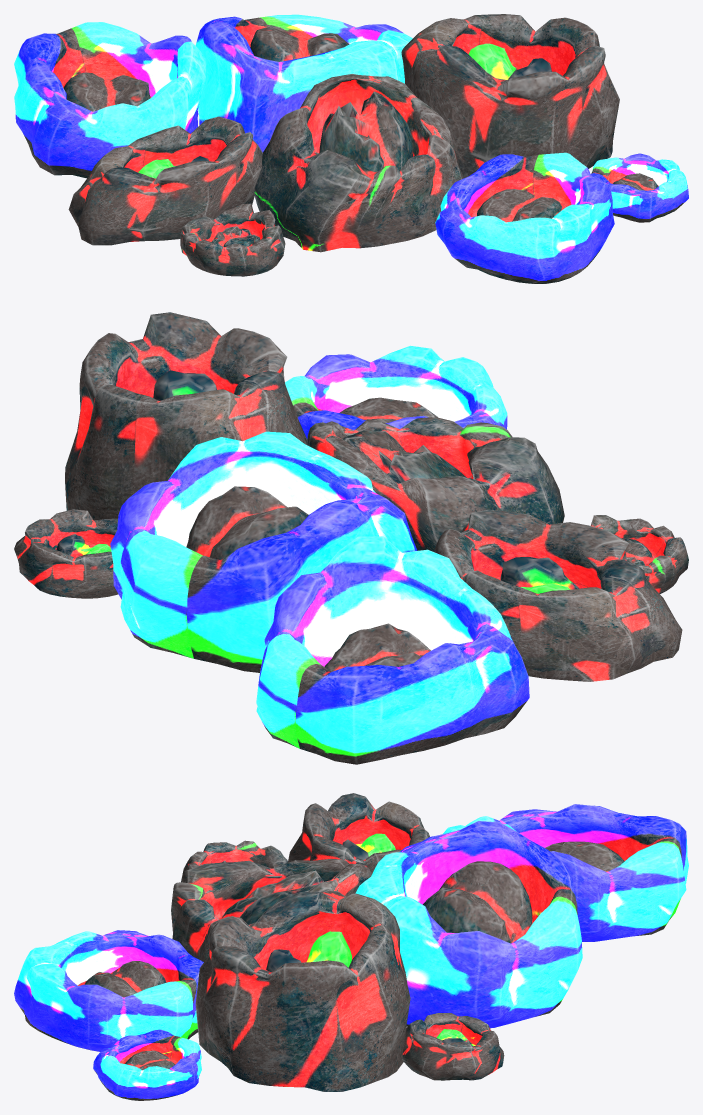
The model's file is SM_Barnacle_A_03.fbx.
3 views of the same model, one above another, from view 1: azimuth 30°, elevation 25°; view 2: azimuth 150°, elevation 25°; view 3: azimuth 270°, elevation 25° (orthographic). The views are drawn at different scales.
Visible parts, largest first — view 1: SM_Barnacle_A_03_LOD0; view 2: SM_Barnacle_A_03_LOD0; view 3: SM_Barnacle_A_03_LOD0.
Boxes of the visible parts, <box> form: SM_Barnacle_A_03_LOD0: <box>14,14,688,283</box>; SM_Barnacle_A_03_LOD0: <box>14,312,688,764</box>; SM_Barnacle_A_03_LOD0: <box>14,793,688,1100</box>.
Bounding box in the file's own units: 92.6 × 101 × 22.79.
1 material, 1 textured.
